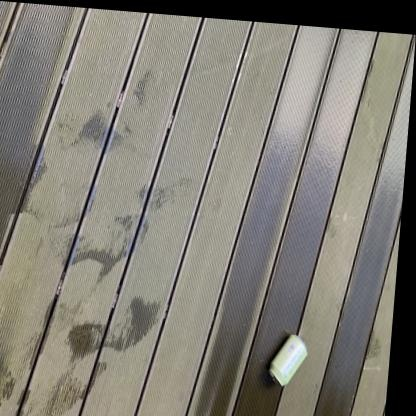trash: (269, 335, 307, 385)
